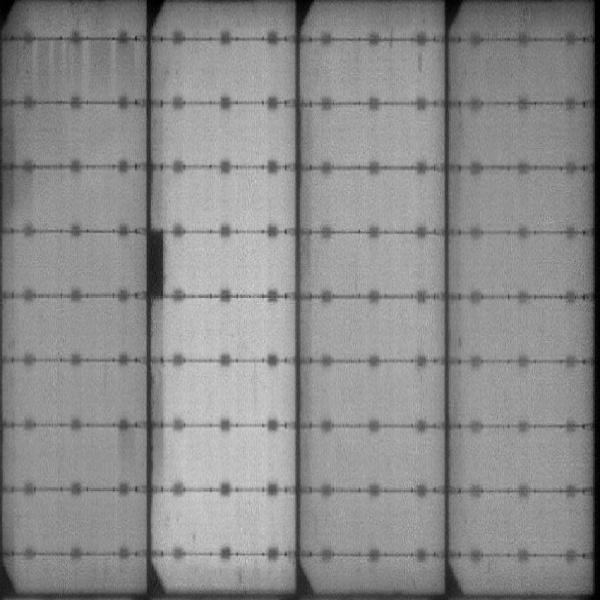black_border: (144, 222, 168, 307)
